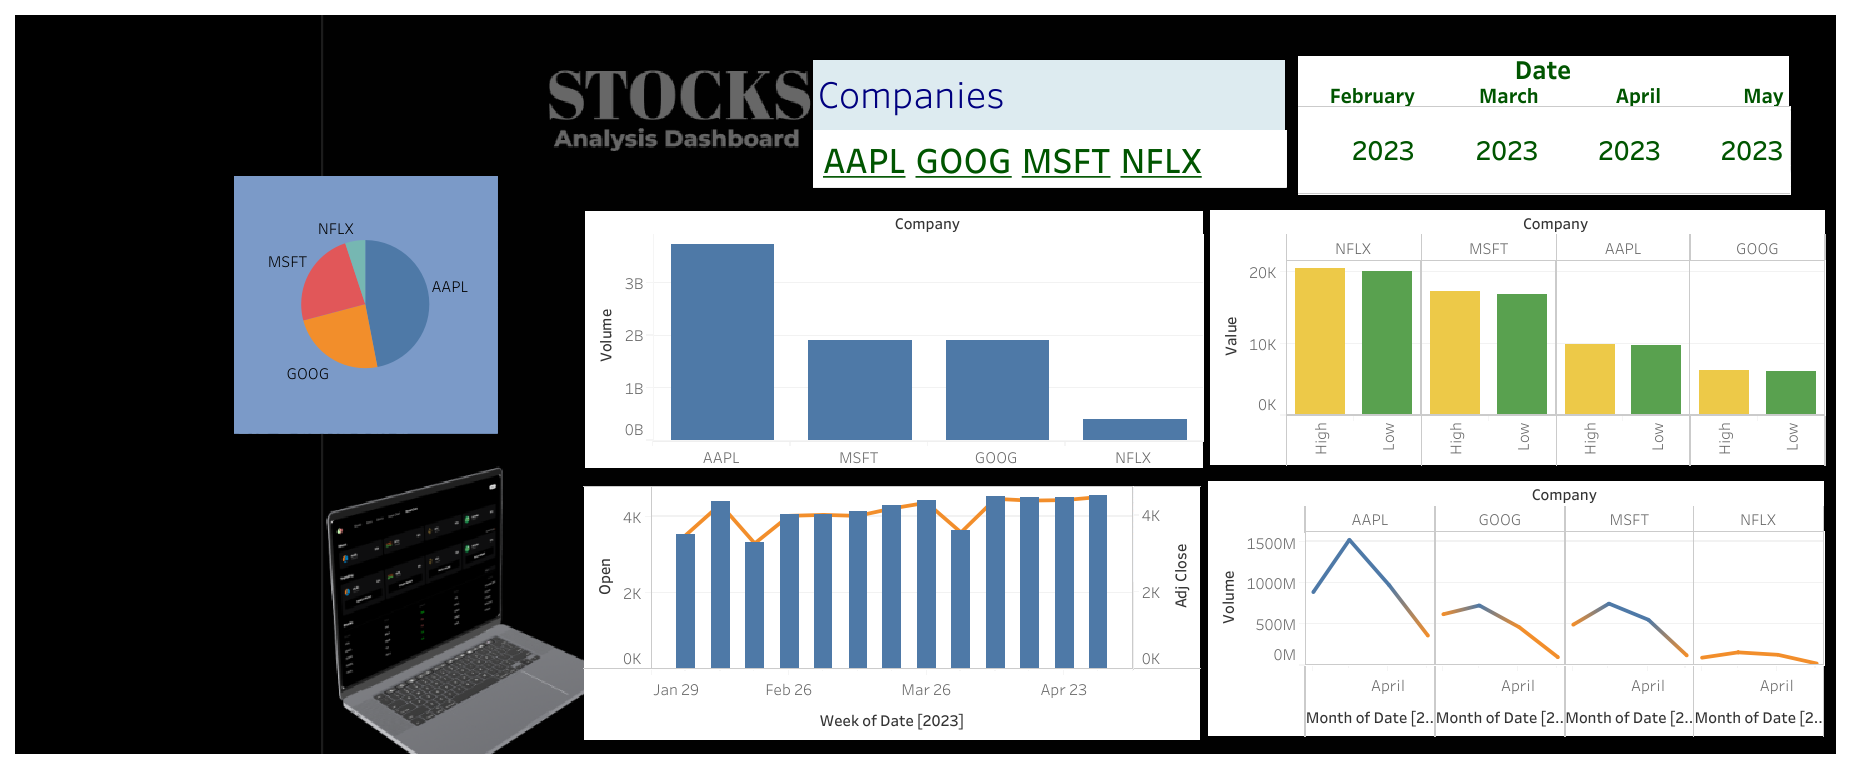

Layout of this report page (visuals, bound fields, positions):
{"tool":"tableau","page":{"name":"Stock Analysis","canvas":[1000,1000],"units":"permille","ordinal":0},"visuals":[{"type":"image","param":"C:/Users/vbhas/OneDrive/Pictures/Screenshots/Screenshot 2025-09-29 184938.png","box":[4.8,10,990.3,980]},{"type":"worksheet","title":"Sheet 6","mark":"Automatic","cols":["Date"],"box":[700.7,72.4,266.1,181]},{"type":"worksheet","title":"Sheet 7","mark":"Automatic","box":[438.1,76.2,256.5,169.8]},{"type":"worksheet","title":"Sheet 1","mark":"Pie","box":[126.1,228.5,141.8,333.3]},{"type":"worksheet","title":"Sheet 4","mark":"Automatic","cols":["Ticker"],"box":[653.6,273.4,333.1,333.3]},{"type":"worksheet","title":"Sheet 3","mark":"Automatic","rows":["Volume"],"cols":["Ticker"],"box":[316.2,274.7,333.1,333.3]},{"type":"worksheet","title":"Sheet 5","mark":"Automatic","rows":["Volume"],"cols":["Ticker","Date"],"box":[652.4,625.5,333.1,333.3]},{"type":"worksheet","title":"Sheet 2","mark":"Automatic","rows":["Open","Adj Close"],"cols":["Date"],"box":[315.6,631.7,333.1,333.3]}]}

Visuals, with their boxes on the dashboard's canvas, which has no fixed pixel size, in thousandths of its width and height (x1, y1, x2, y2). These are canvas units, not pixel positions in the 1850x768 screenshot, which may show the page scaled, cropped or inside an application window:
image: [5,10,995,990]
"Sheet 6" worksheet: [701,72,967,253]
"Sheet 7" worksheet: [438,76,695,246]
"Sheet 1" worksheet (Pie marks): [126,228,268,562]
"Sheet 4" worksheet: [654,273,987,607]
"Sheet 3" worksheet: [316,275,649,608]
"Sheet 5" worksheet: [652,626,986,959]
"Sheet 2" worksheet: [316,632,649,965]
